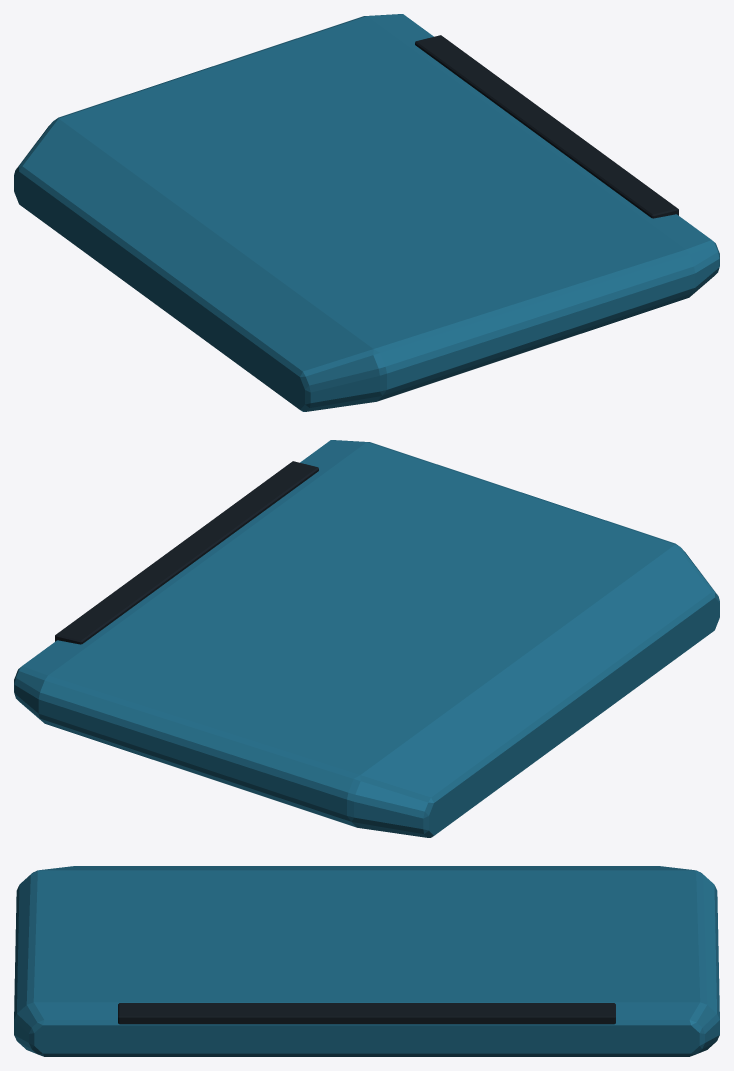
The model's file is QC_Hood.fbx.
3 views of the same model, one above another, from view 1: azimuth 30°, elevation 25°; view 2: azimuth 150°, elevation 25°; view 3: azimuth 270°, elevation 25° (orthographic). The views are drawn at different scales.
Visible parts, largest first — view 1: QC_Hood; view 2: QC_Hood; view 3: QC_Hood.
Part boxes in pixels (x1=…): QC_Hood: x1=14, y1=14, x2=719, y2=411; QC_Hood: x1=14, y1=440, x2=719, y2=837; QC_Hood: x1=14, y1=866, x2=719, y2=1056.
Size of the model in its own units: 1.1 by 0.2375 by 1.6.
2 materials, 2 textured.
